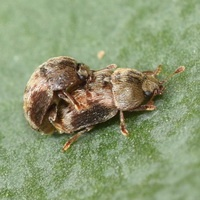insect: (23, 56, 184, 150)
